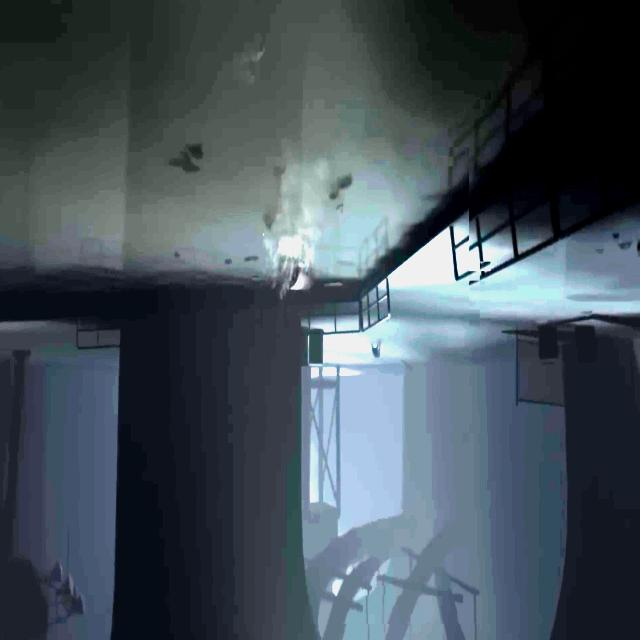dog: (370, 339, 382, 360)
structure: (76, 272, 391, 354)
